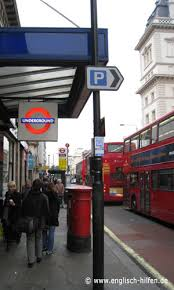London Underground: (21, 108, 54, 134)
